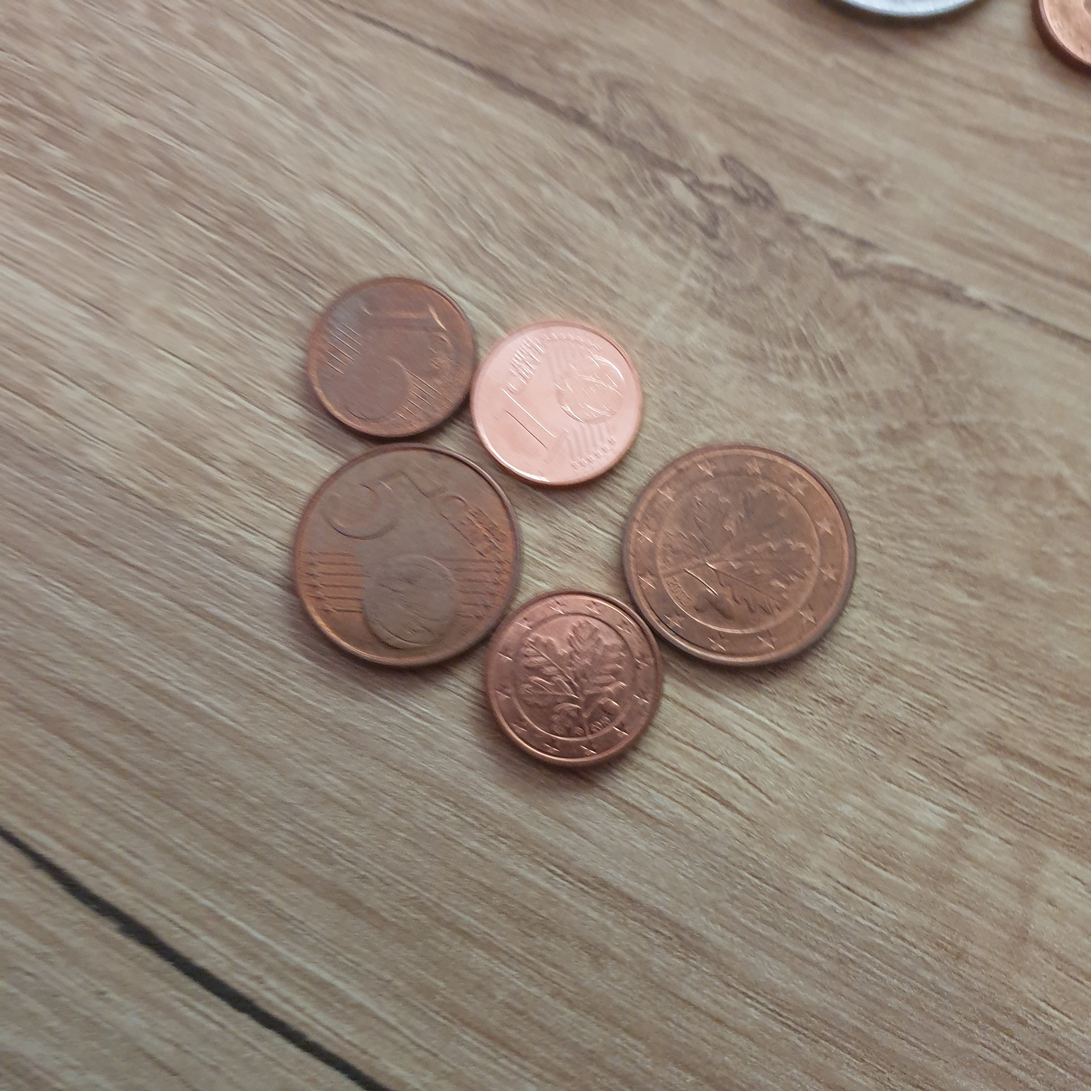1 cent: (292, 269, 484, 440), (460, 310, 651, 481), (476, 592, 668, 762)
5 cent: (618, 435, 857, 679), (285, 438, 523, 682)
